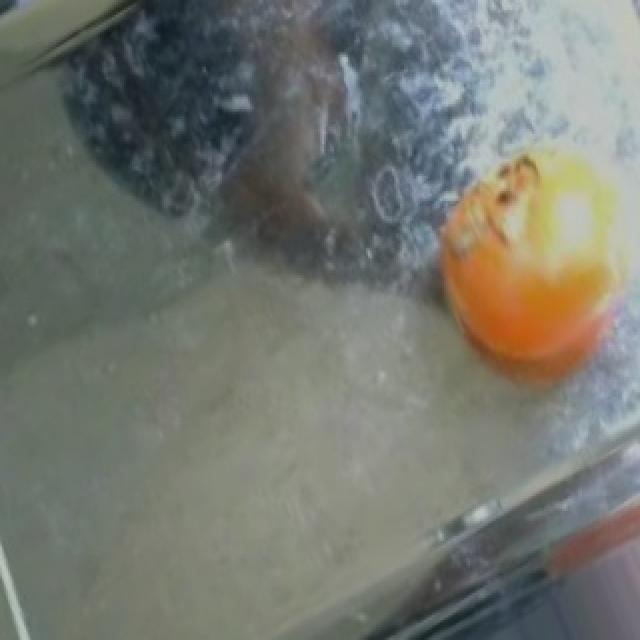Fruit: (404, 132, 640, 420)
